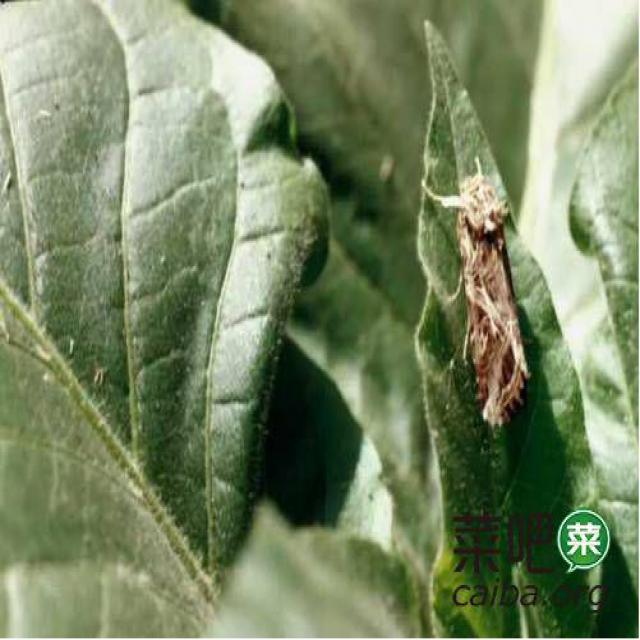armyworm: (447, 162, 545, 435)
